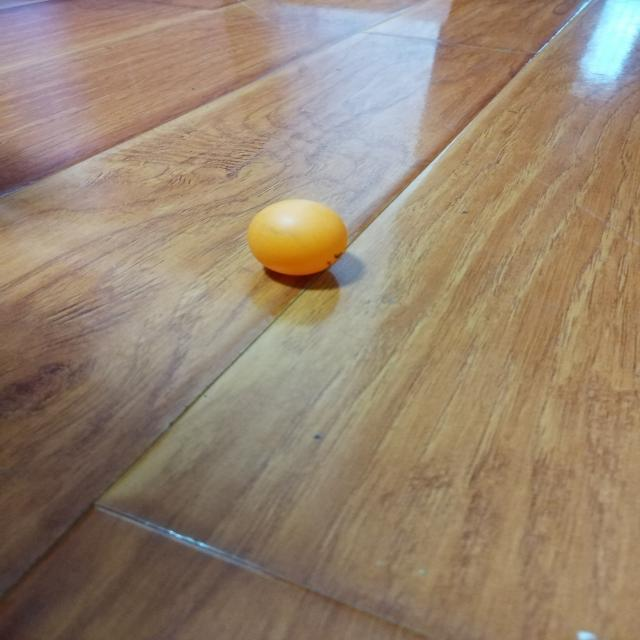oball: (247, 200, 347, 274)
